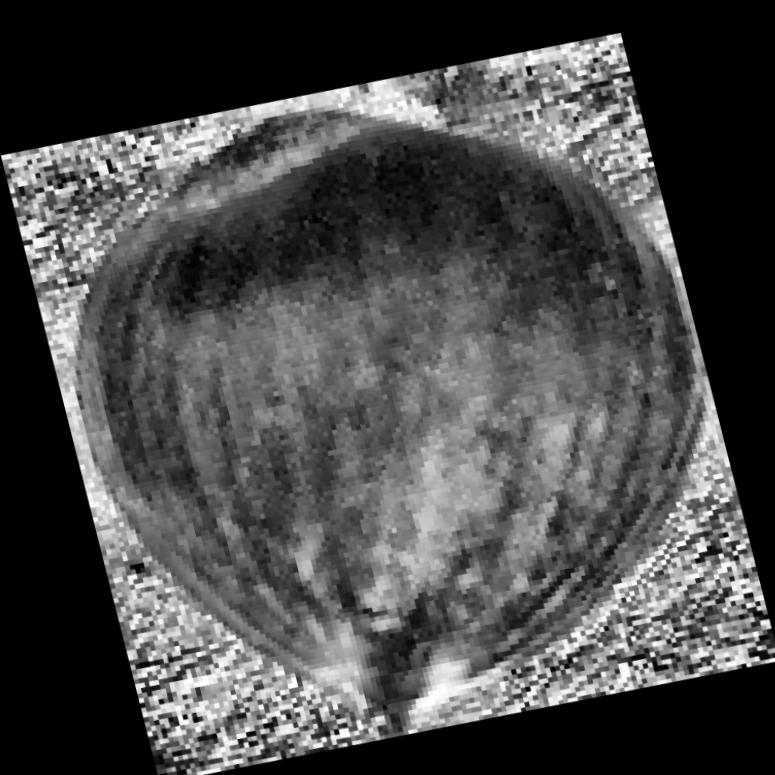qualityHazelnut: (4, 0, 775, 775)
